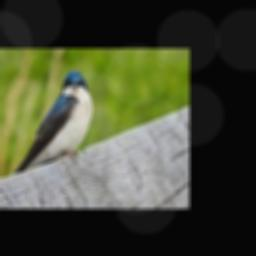Swallow: (14, 70, 92, 173)
